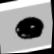correct: (12, 13, 47, 44)
